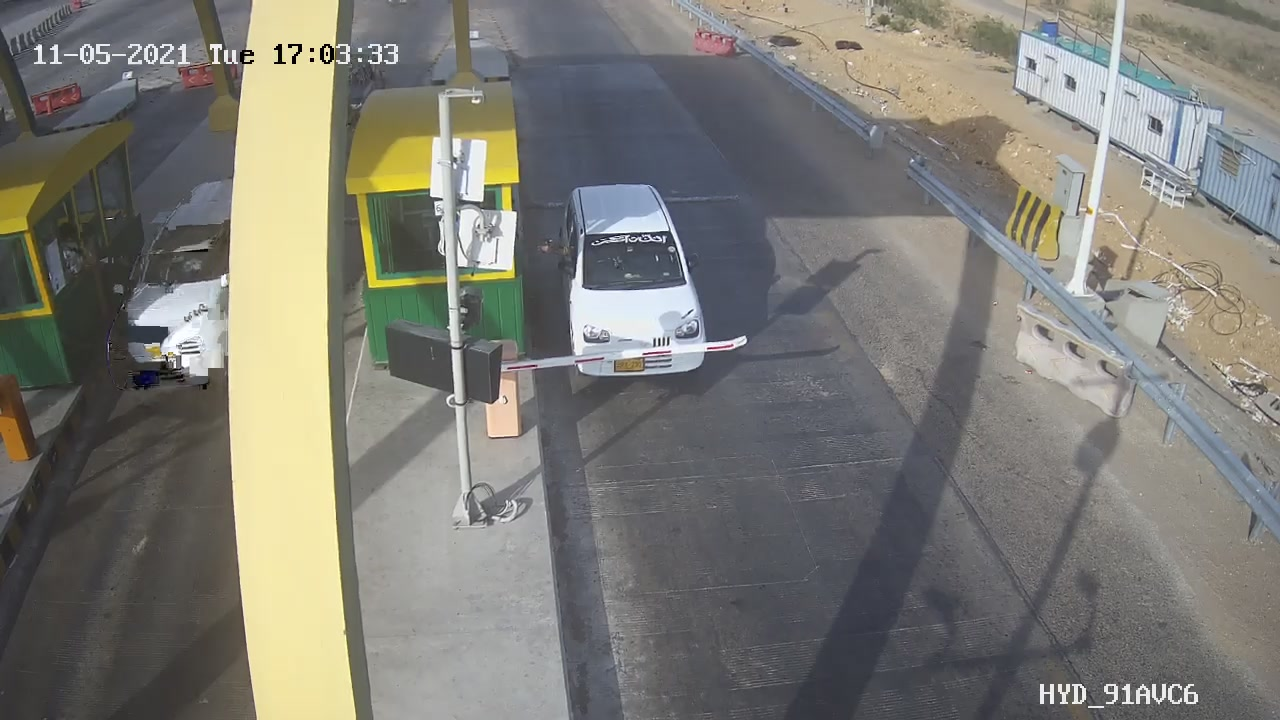F1: (540, 165, 718, 396)
